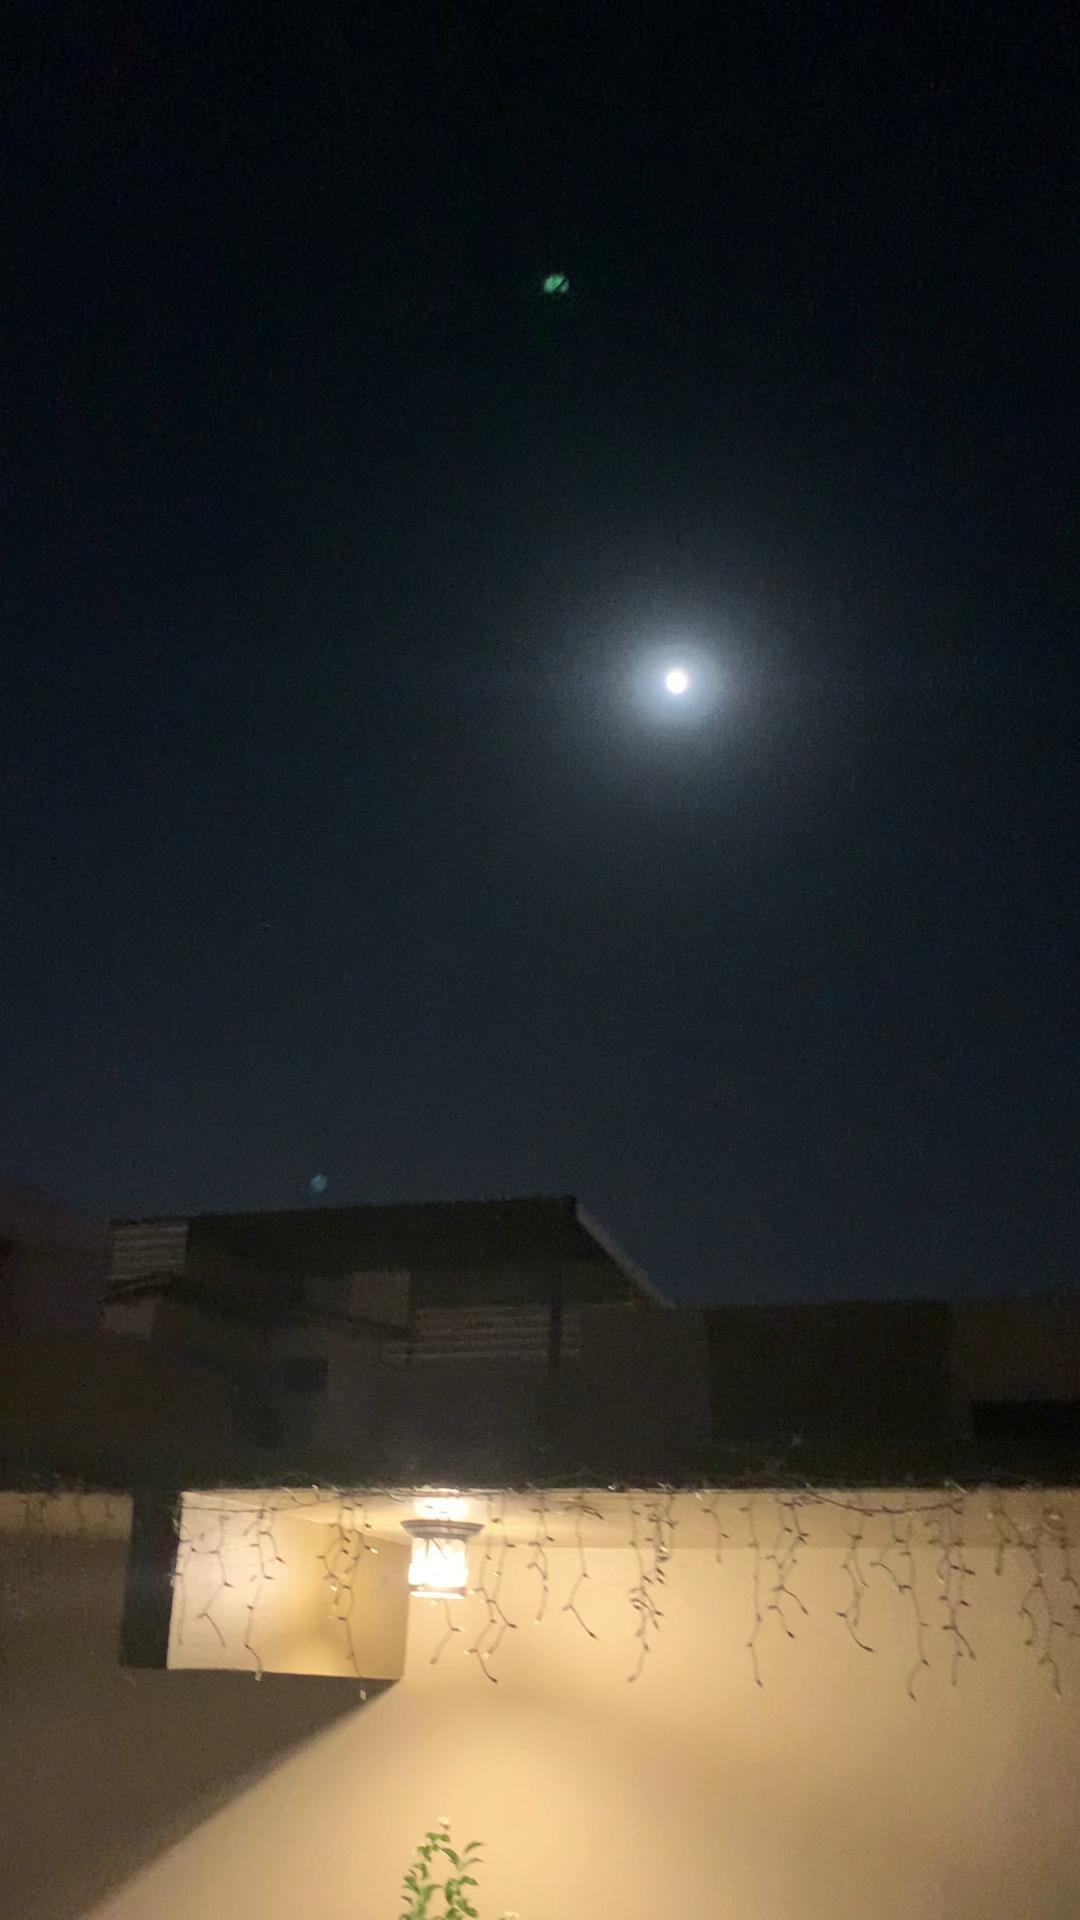moon: (644, 641, 731, 720)
